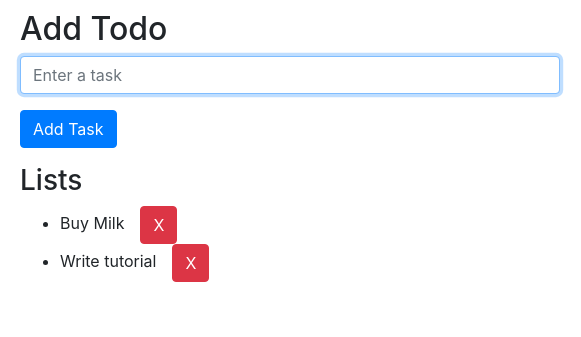
Test: Teste para o Formulário › Adicionando uma nova tarefa
The width and height of the screenshot is (581, 337).
Step 1. Type "Aprender sobre Cypress" into the field with placeholder "Enter a task" → [290, 75], box [20, 56, 560, 94]
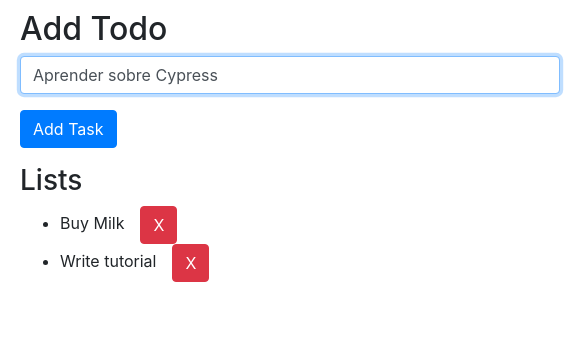
Step 2. Press Enter in the field, box [20, 56, 560, 94]
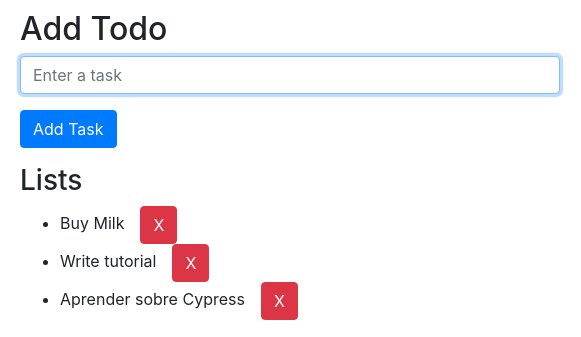
Result: the number of list items is 3 at [60, 206, 177, 244]; [60, 244, 209, 282]; [60, 282, 298, 320]
